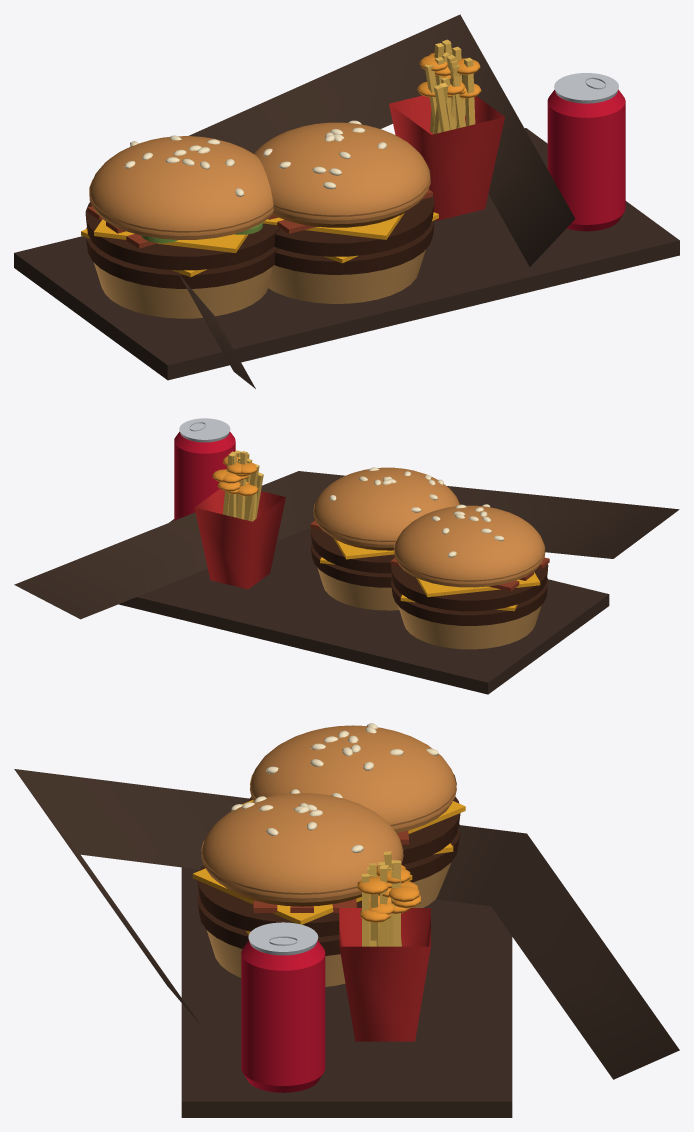
The model's file is barco.glb.
3 views of the same model, one above another, from view 1: azimuth 30°, elevation 25°; view 2: azimuth 150°, elevation 25°; view 3: azimuth 270°, elevation 25° (orthographic). The views are drawn at different scales.
Bounding box in the file's own units: 0.5233 × 0.164 × 0.5233.
